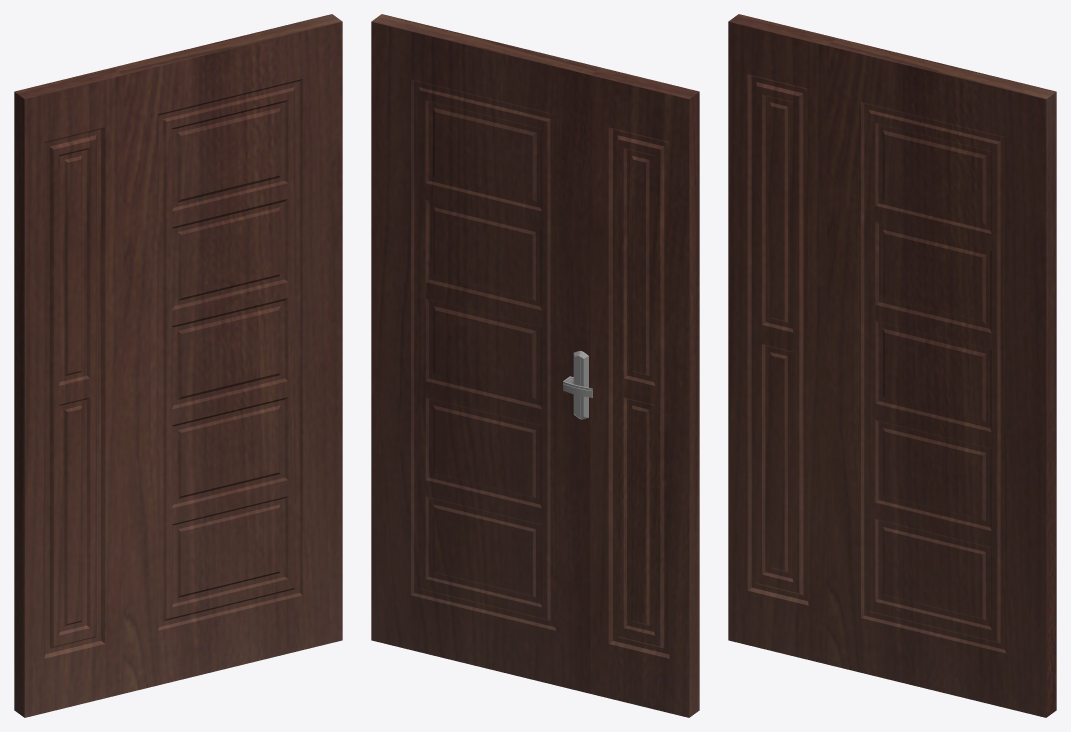
The model's file is men01.fbx.
The picture shows the model from 3 angles, left to right: view 1: azimuth 30°, elevation 25°; view 2: azimuth 150°, elevation 25°; view 3: azimuth 330°, elevation 25°; orthographic projection.
Visible parts, largest first — view 1: men01; view 2: men01; view 3: men01.
Part boxes in pixels (x1,y1,x2,y2): men01: [14, 14, 342, 717]; men01: [371, 14, 699, 717]; men01: [728, 14, 1056, 717].
Size of the model in its own units: 115 by 214 by 12.3.
